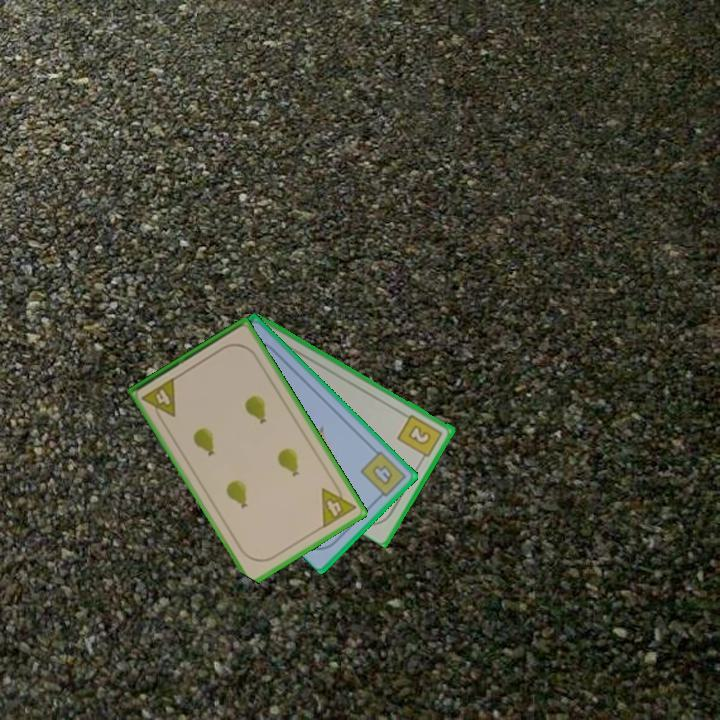2b: (394, 411, 446, 464)
4b: (357, 447, 409, 503)
4p: (318, 478, 359, 531), (138, 374, 179, 426)
